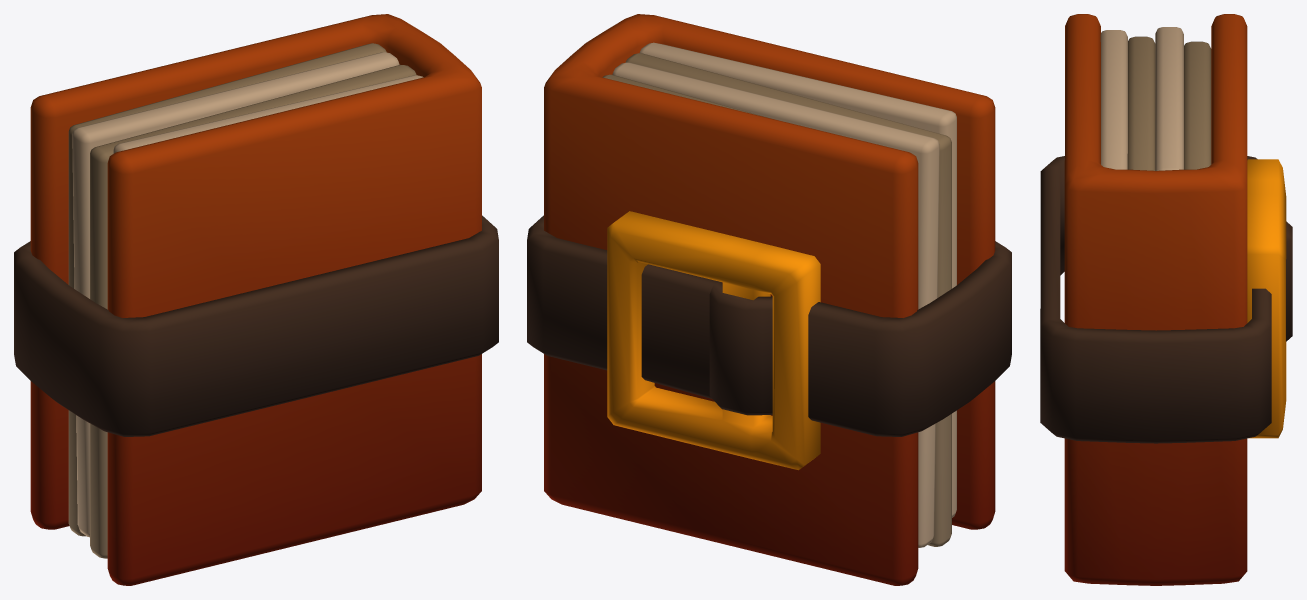
File: Book_V1_0.fbx
The picture shows the model from 3 angles, left to right: view 1: azimuth 30°, elevation 25°; view 2: azimuth 150°, elevation 25°; view 3: azimuth 270°, elevation 25°; orthographic projection. The views are drawn at different scales.
Parts seen in each view (by area): view 1: Book_V1_0; view 2: Book_V1_0; view 3: Book_V1_0.
Boxes of the visible parts, x1,y1,x2,y2 form: Book_V1_0: (14, 14, 498, 585); Book_V1_0: (527, 14, 1011, 585); Book_V1_0: (1040, 14, 1292, 585).
Bounding box in the file's own units: 0.3843 × 0.3859 × 0.2153.
